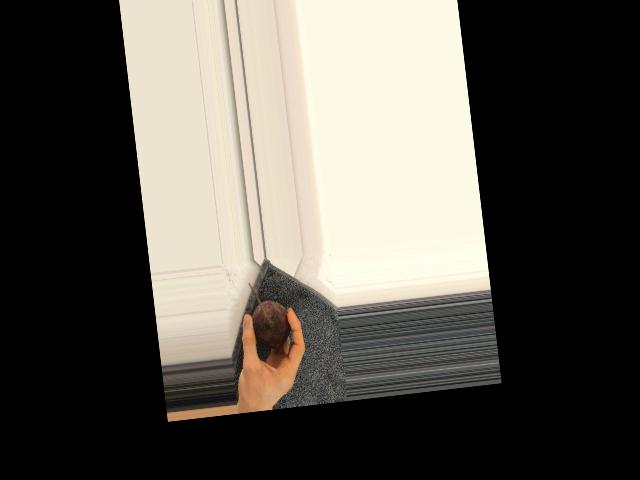beet: (247, 278, 292, 350)
